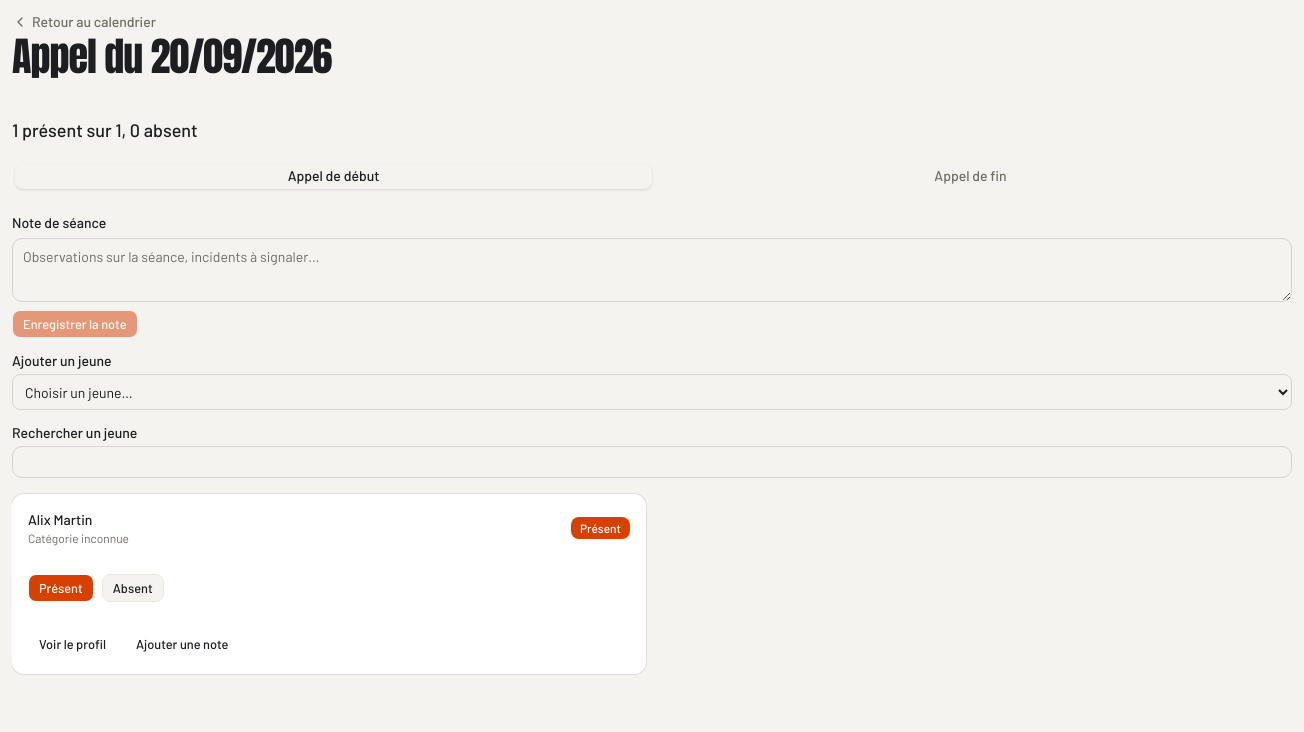
Test: AppelPresence › bascule vers l'appel de fin sans écrire aucune donnée
Expected: the text "Alix Martin" is shown, [28,511,92,528]
What coordinates should you click on to do the following:
click the tab "Appel de fin"
I would click on:
 (970, 176)
Its box is [652,164,1289,188].
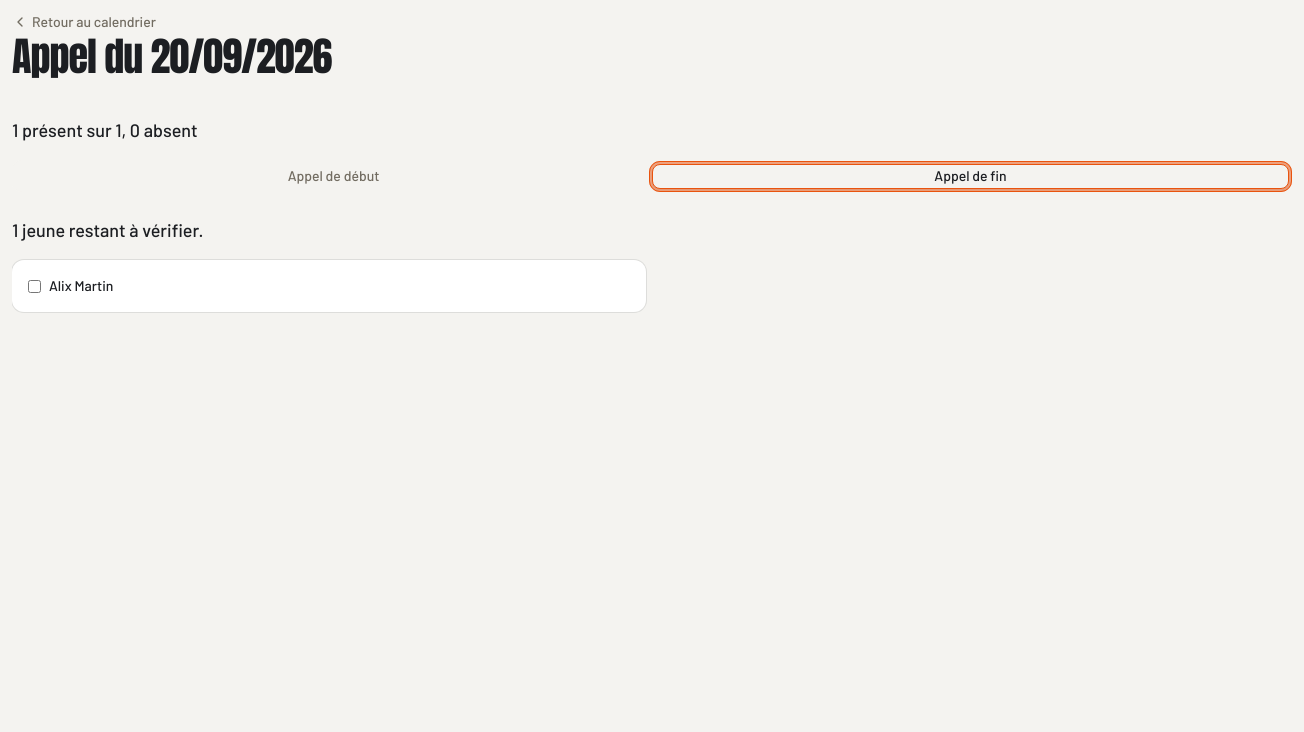
Expected: the text "1 jeune restant à vérifier." is shown, [12,219,204,241]
